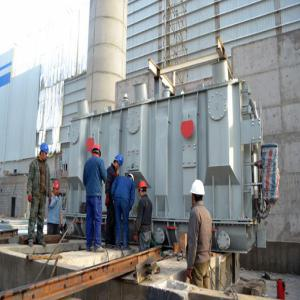blue: (39, 144, 50, 162), (114, 154, 124, 172)
red: (91, 143, 102, 159), (139, 180, 148, 197), (52, 180, 61, 196)
white: (191, 181, 205, 207)
